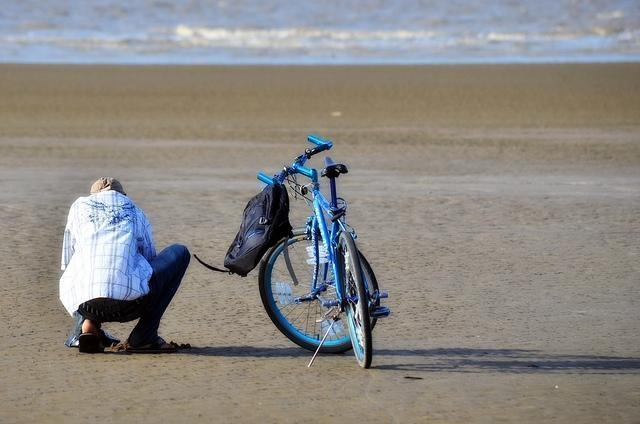bicycle: (258, 136, 392, 372)
